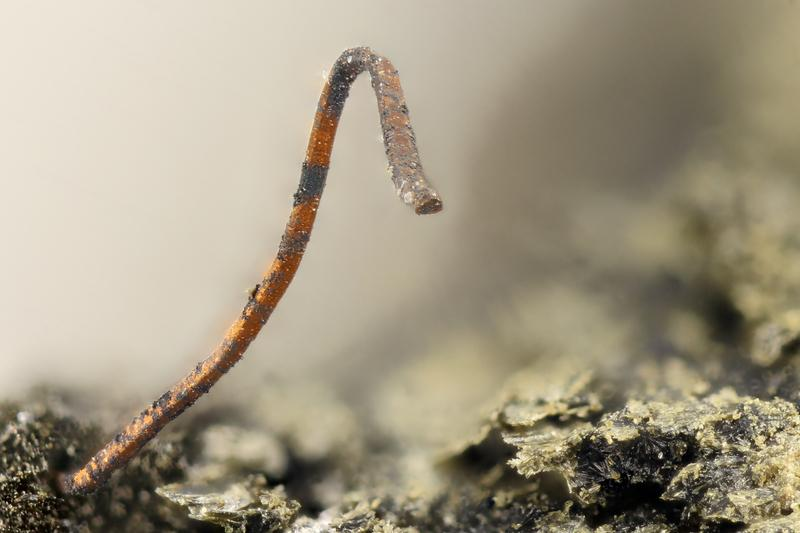copper: (61, 46, 443, 494)
